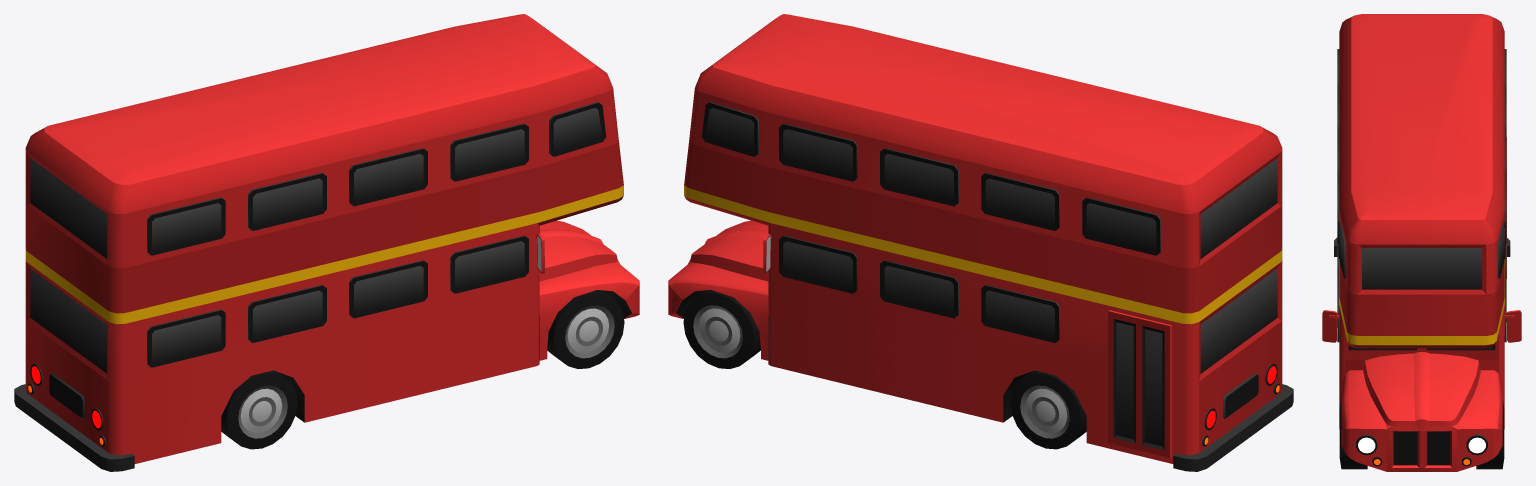
Rendered from Truck_013.glb.
3 renders of one model, left to right at view 1: azimuth 30°, elevation 25°; view 2: azimuth 150°, elevation 25°; view 3: azimuth 270°, elevation 25°, orthographic. The views are drawn at different scales.
Parts seen in each view (by area): view 1: Truck_013, wheel_1_Truck_013_Wheel_1R, wheel_3_Truck_013_Wheel_2R; view 2: Truck_013, wheel_0_Truck_013_Wheel_1L, wheel_2_Truck_013_Wheel_2L; view 3: Truck_013, wheel_1_Truck_013_Wheel_1R, wheel_0_Truck_013_Wheel_1L.
Boxes of the visible parts, bbox=[...] form: Truck_013: bbox=[14, 14, 639, 471]; wheel_1_Truck_013_Wheel_1R: bbox=[547, 290, 624, 368]; wheel_3_Truck_013_Wheel_2R: bbox=[221, 370, 297, 449]; Truck_013: bbox=[668, 14, 1293, 471]; wheel_0_Truck_013_Wheel_1L: bbox=[683, 290, 760, 368]; wheel_2_Truck_013_Wheel_2L: bbox=[1010, 370, 1086, 449]; Truck_013: bbox=[1322, 14, 1521, 471]; wheel_1_Truck_013_Wheel_1R: bbox=[1339, 399, 1367, 469]; wheel_0_Truck_013_Wheel_1L: bbox=[1476, 399, 1504, 469].
Bounding box in the file's own units: 6.95 × 3.58 × 2.52.
Materials: 2 (2 with a texture image).
